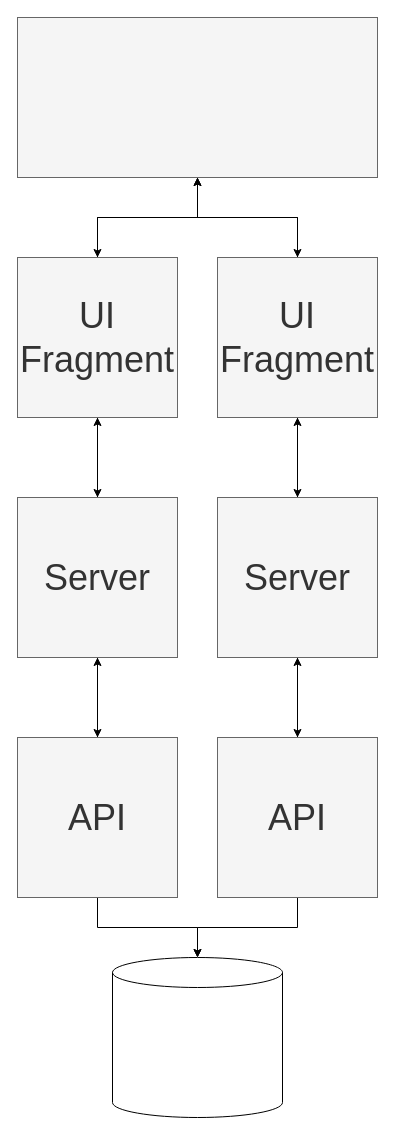
Image size: 395x1135. Some labels were removed from this diagram. Each missing label, with the box of its shape:
Browser: (16, 16, 378, 178)
DB: (112, 956, 282, 1118)
